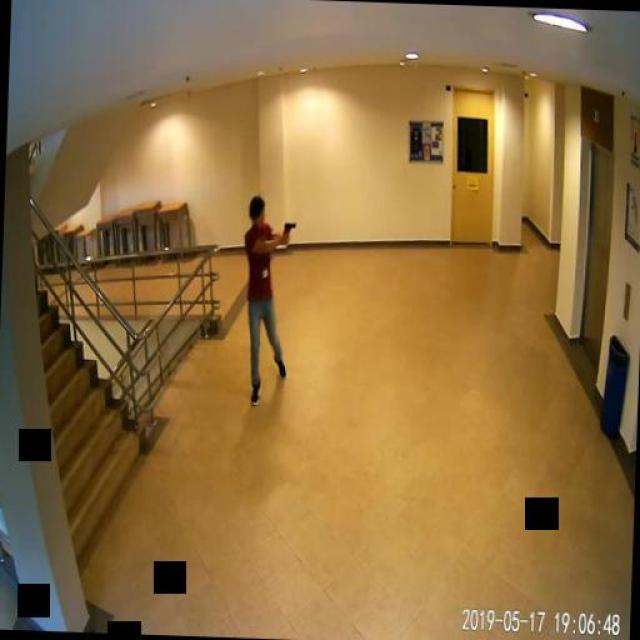gun: (280, 219, 294, 239)
